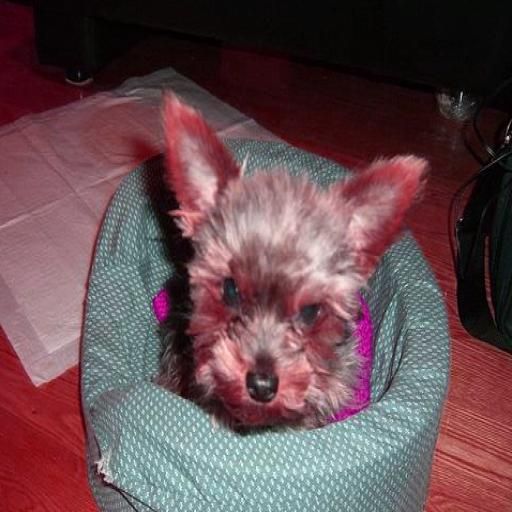dog_face: (154, 96, 422, 429)
